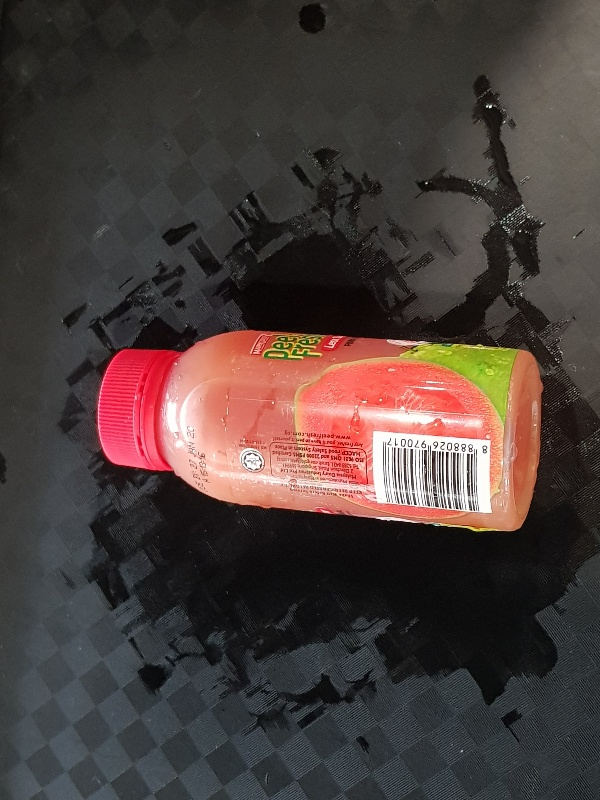Marigold Peel Fresh Pink Guava Juice Drink: (94, 329, 543, 535)
